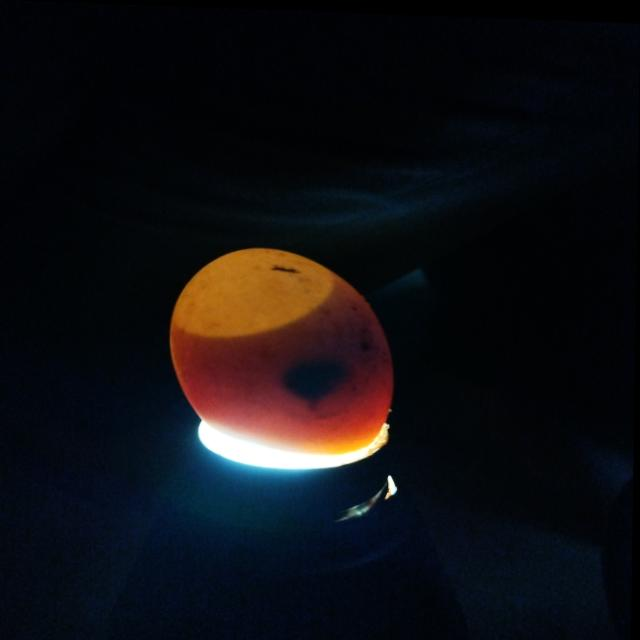Area Infectada: (283, 300, 388, 405)
